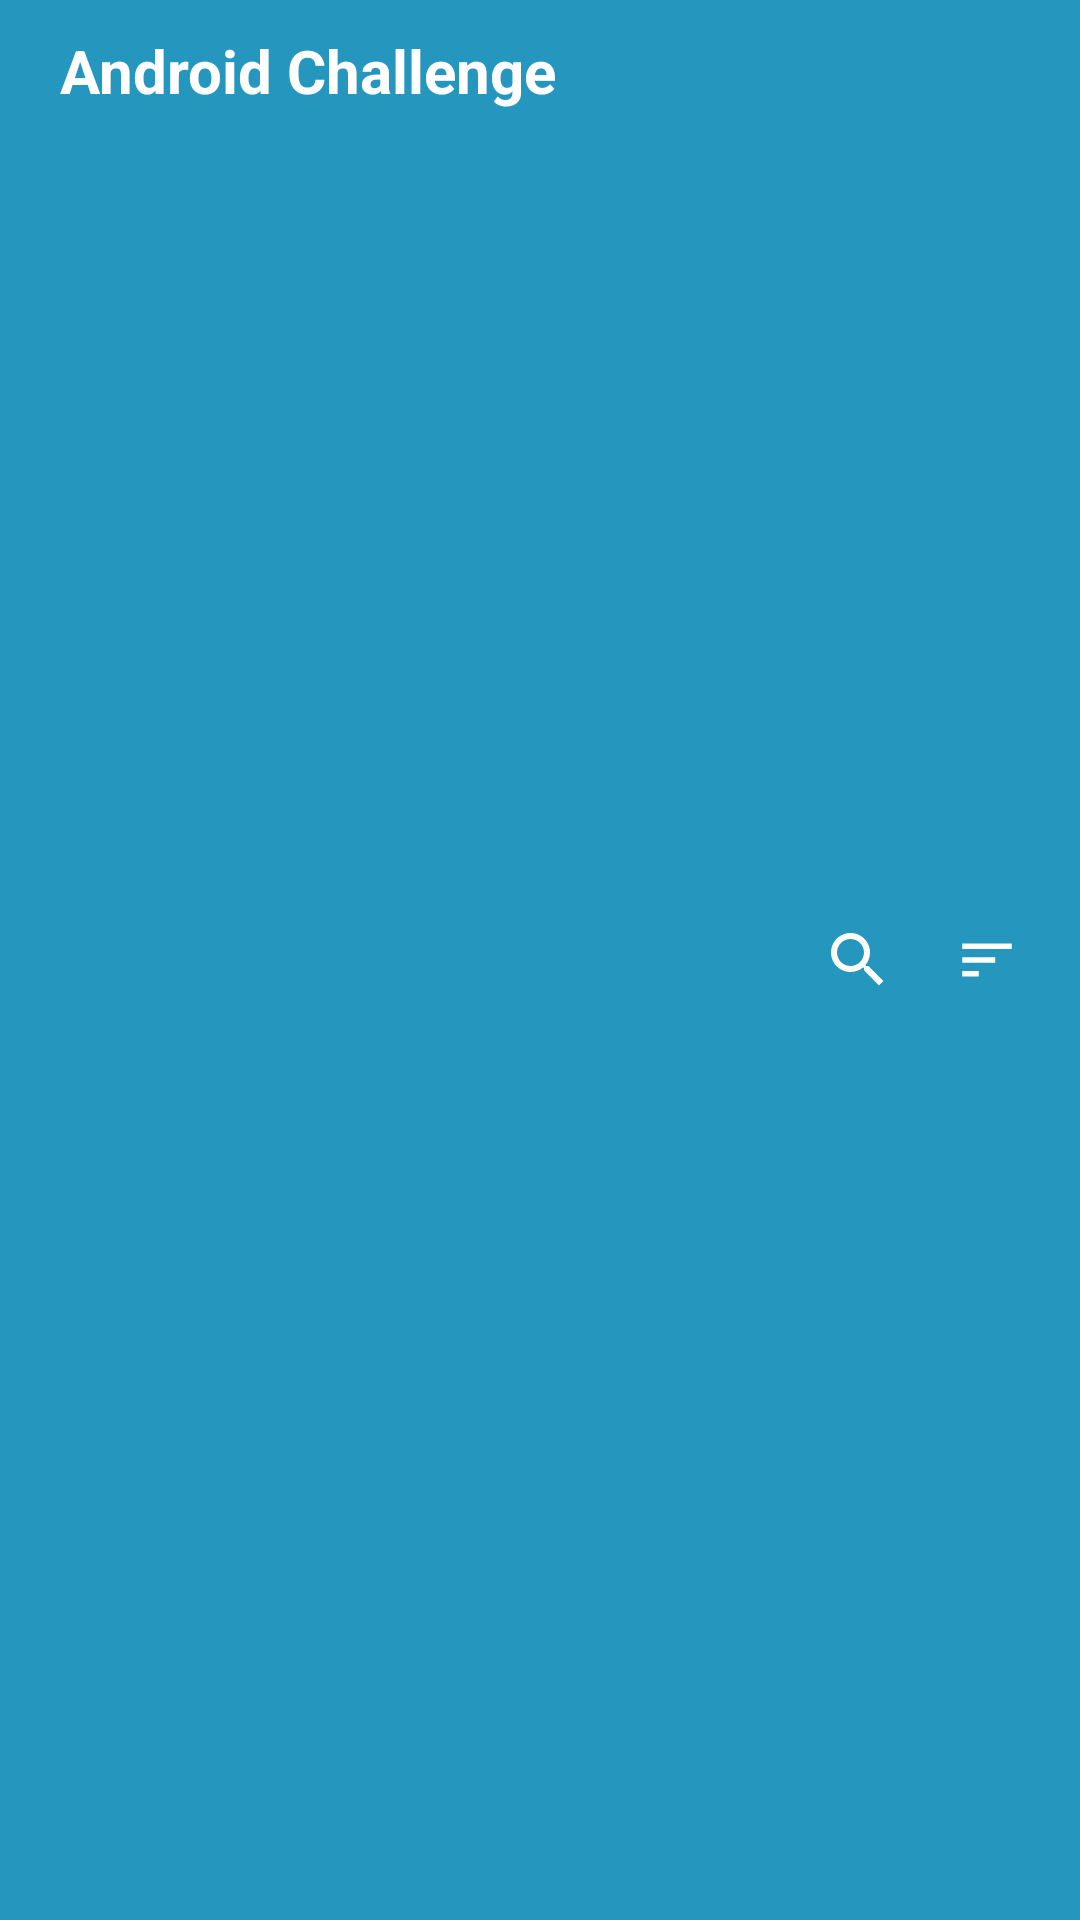

Screen size 1080*1920. Icon name, then its center in pixels as point (x, y):
search: point (857, 959)
sort: point (987, 960)
